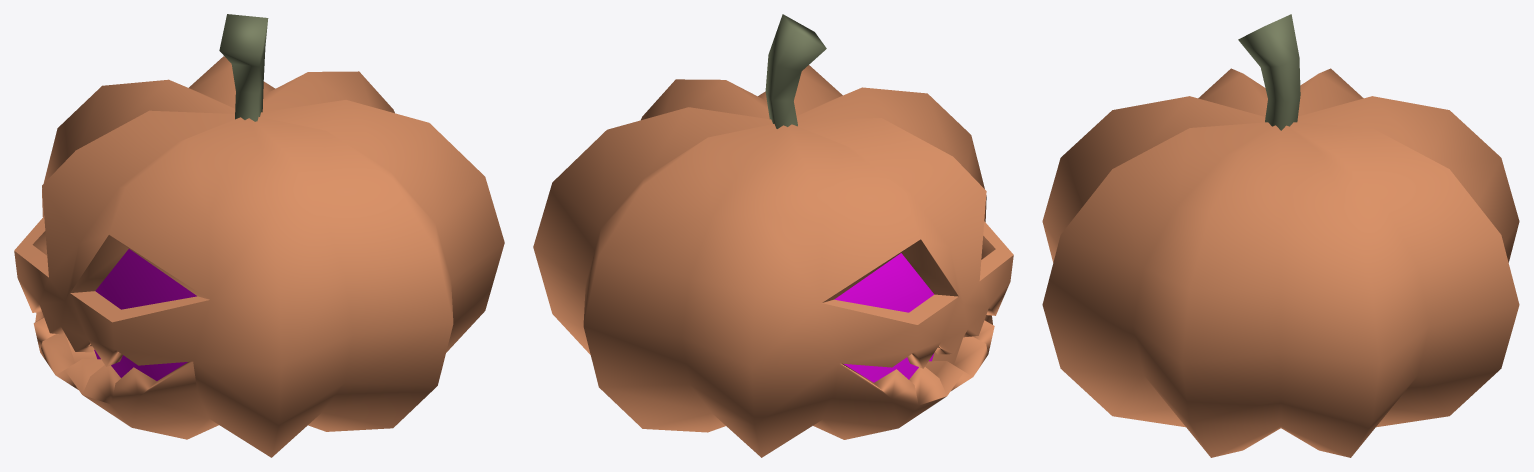
Rendered from Pumpkin.fbx.
3 renders of one model, left to right at view 1: azimuth 30°, elevation 25°; view 2: azimuth 150°, elevation 25°; view 3: azimuth 270°, elevation 25°, orthographic. The views are drawn at different scales.
Visible parts, largest first — view 1: GlowingPart1; view 2: GlowingPart1; view 3: GlowingPart1.
Boxes of the visible parts, x1,y1,x2,y2 form: GlowingPart1: [14, 14, 504, 457]; GlowingPart1: [533, 14, 1013, 457]; GlowingPart1: [1042, 14, 1519, 457].
Size of the model in its own units: 96.12 by 91.07 by 101.
